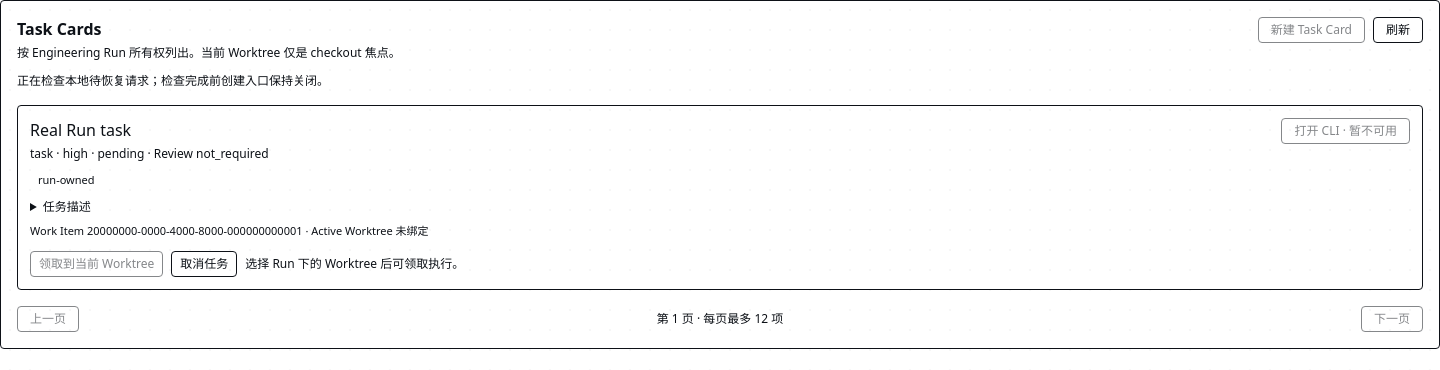
Scenario: RunTaskCardsPanel › allows a hostless Run Task Card to be cancelled without creating a Worktree focus
The image size is (1440, 370).
expect the heading "Real Run task" is shown: met, box [30, 119, 131, 141]
expect the button "领取到当前 Worktree" is disabled: met, box [30, 251, 163, 277]
Click the button "取消任务": (204, 264) [171, 251, 237, 277]
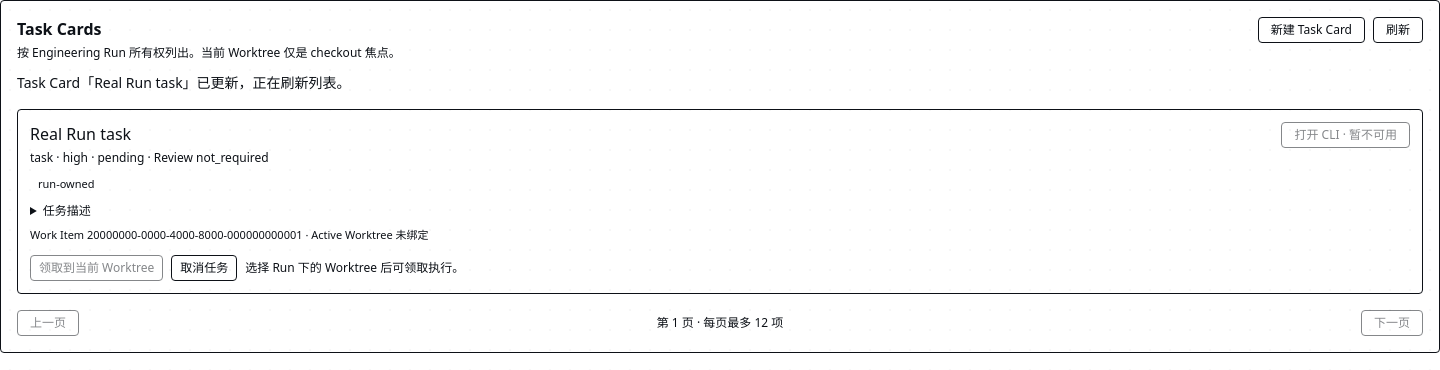
expect the text "Task Card「Real Run task」已更新，正在刷新列表。" is shown: met, box [17, 73, 351, 92]
